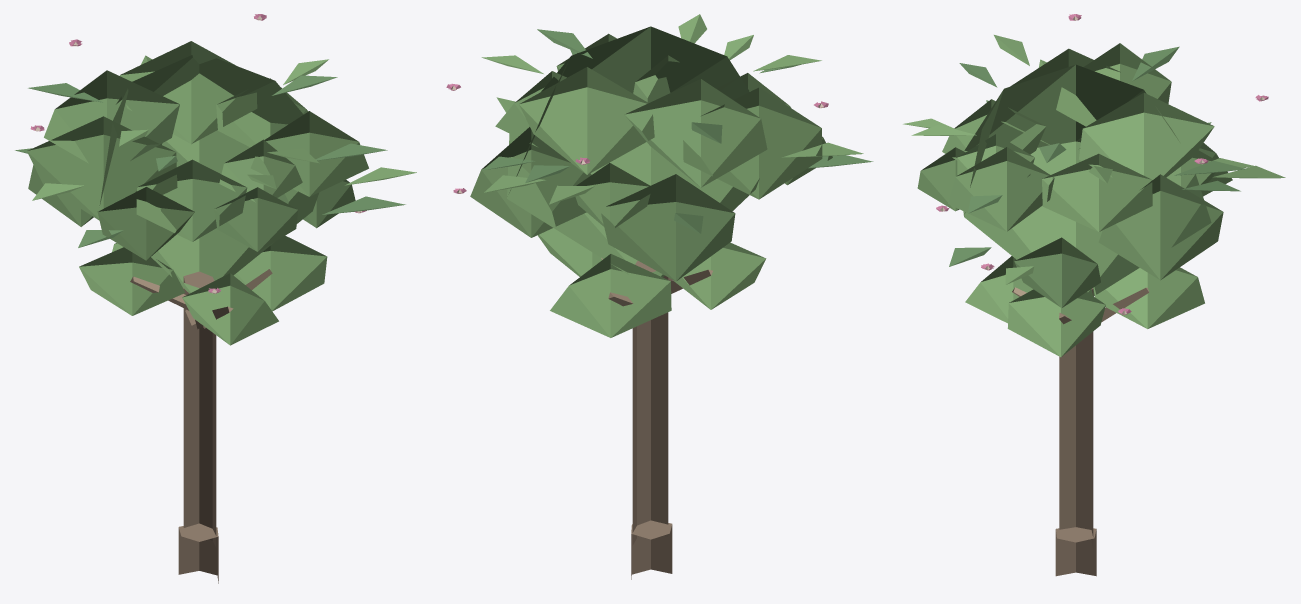
File: shu.longnao__bloom.glb
The picture shows the model from 3 angles, left to right: view 1: azimuth 30°, elevation 25°; view 2: azimuth 150°, elevation 25°; view 3: azimuth 270°, elevation 25°; orthographic projection. The views are drawn at different scales.
Visible parts, largest first — view 1: shu.longnao__bloom; view 2: shu.longnao__bloom; view 3: shu.longnao__bloom.
Boxes of the visible parts, box(x1,y1,x2,y2) form: shu.longnao__bloom: box(15, 14, 416, 583); shu.longnao__bloom: box(446, 14, 873, 579); shu.longnao__bloom: box(903, 14, 1285, 576).
Bounding box in the file's own units: 21.86 × 29.23 × 19.99.
